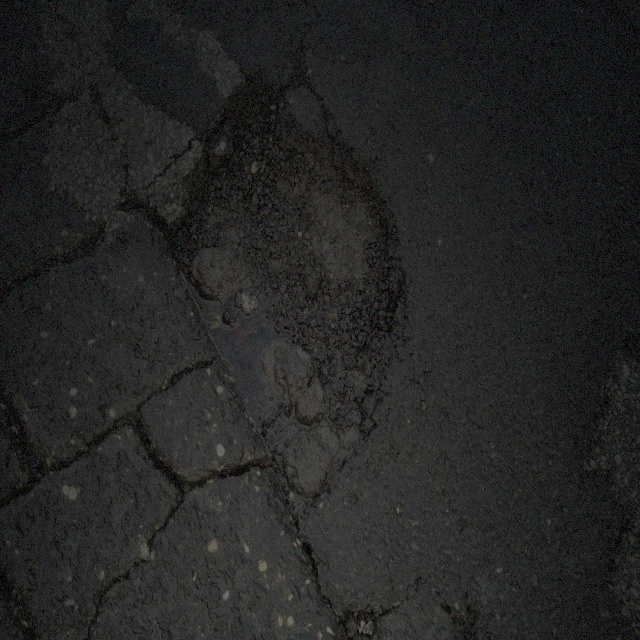pothole: (161, 78, 399, 480)
